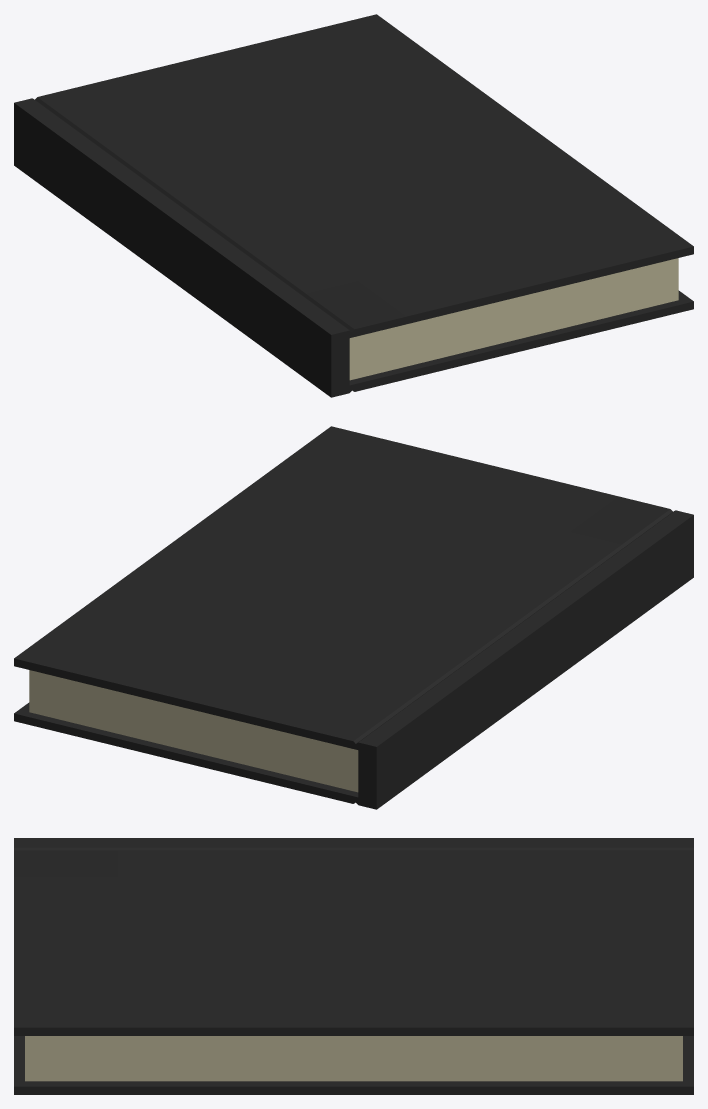
Rendered from Book_Programmers_vc.fbx.
3 renders of one model, top to bottom at view 1: azimuth 30°, elevation 25°; view 2: azimuth 150°, elevation 25°; view 3: azimuth 270°, elevation 25°, orthographic. The views are drawn at different scales.
Parts seen in each view (by area): view 1: Book_Programmers_vc; view 2: Book_Programmers_vc; view 3: Book_Programmers_vc.
Part boxes in pixels (x1,y1,x2,y2): Book_Programmers_vc: (14, 14, 693, 397); Book_Programmers_vc: (14, 426, 693, 809); Book_Programmers_vc: (14, 838, 693, 1094).
Size of the model in its own units: 11.52 by 1.91 by 17.45.
